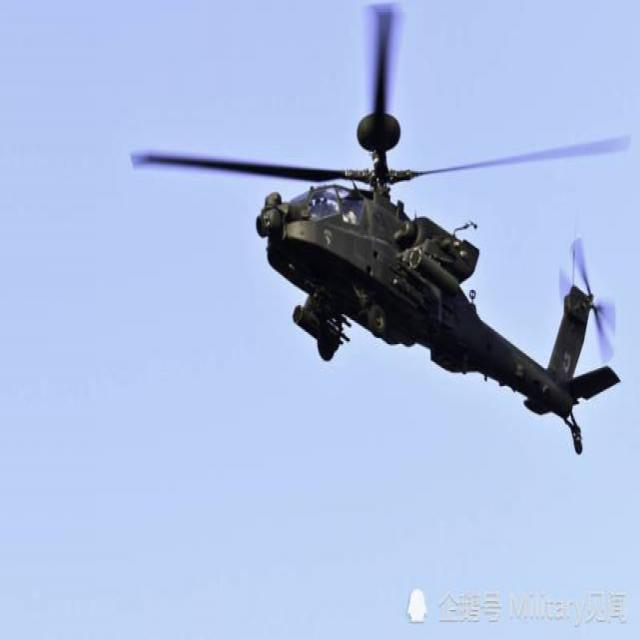MIL_HELO: (107, 9, 639, 464)
